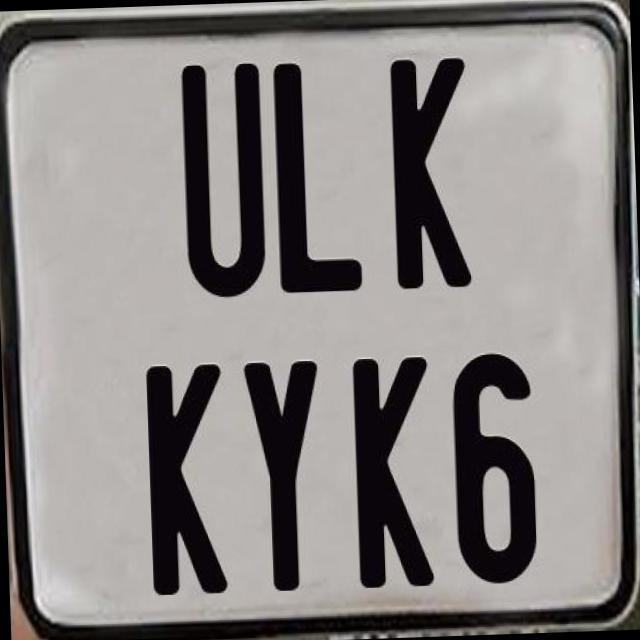6: (449, 346, 545, 580)
K: (352, 356, 443, 590), (386, 54, 474, 292), (144, 362, 227, 598)
L: (272, 56, 366, 290)
U: (179, 61, 266, 301)
Y: (242, 360, 330, 598)
